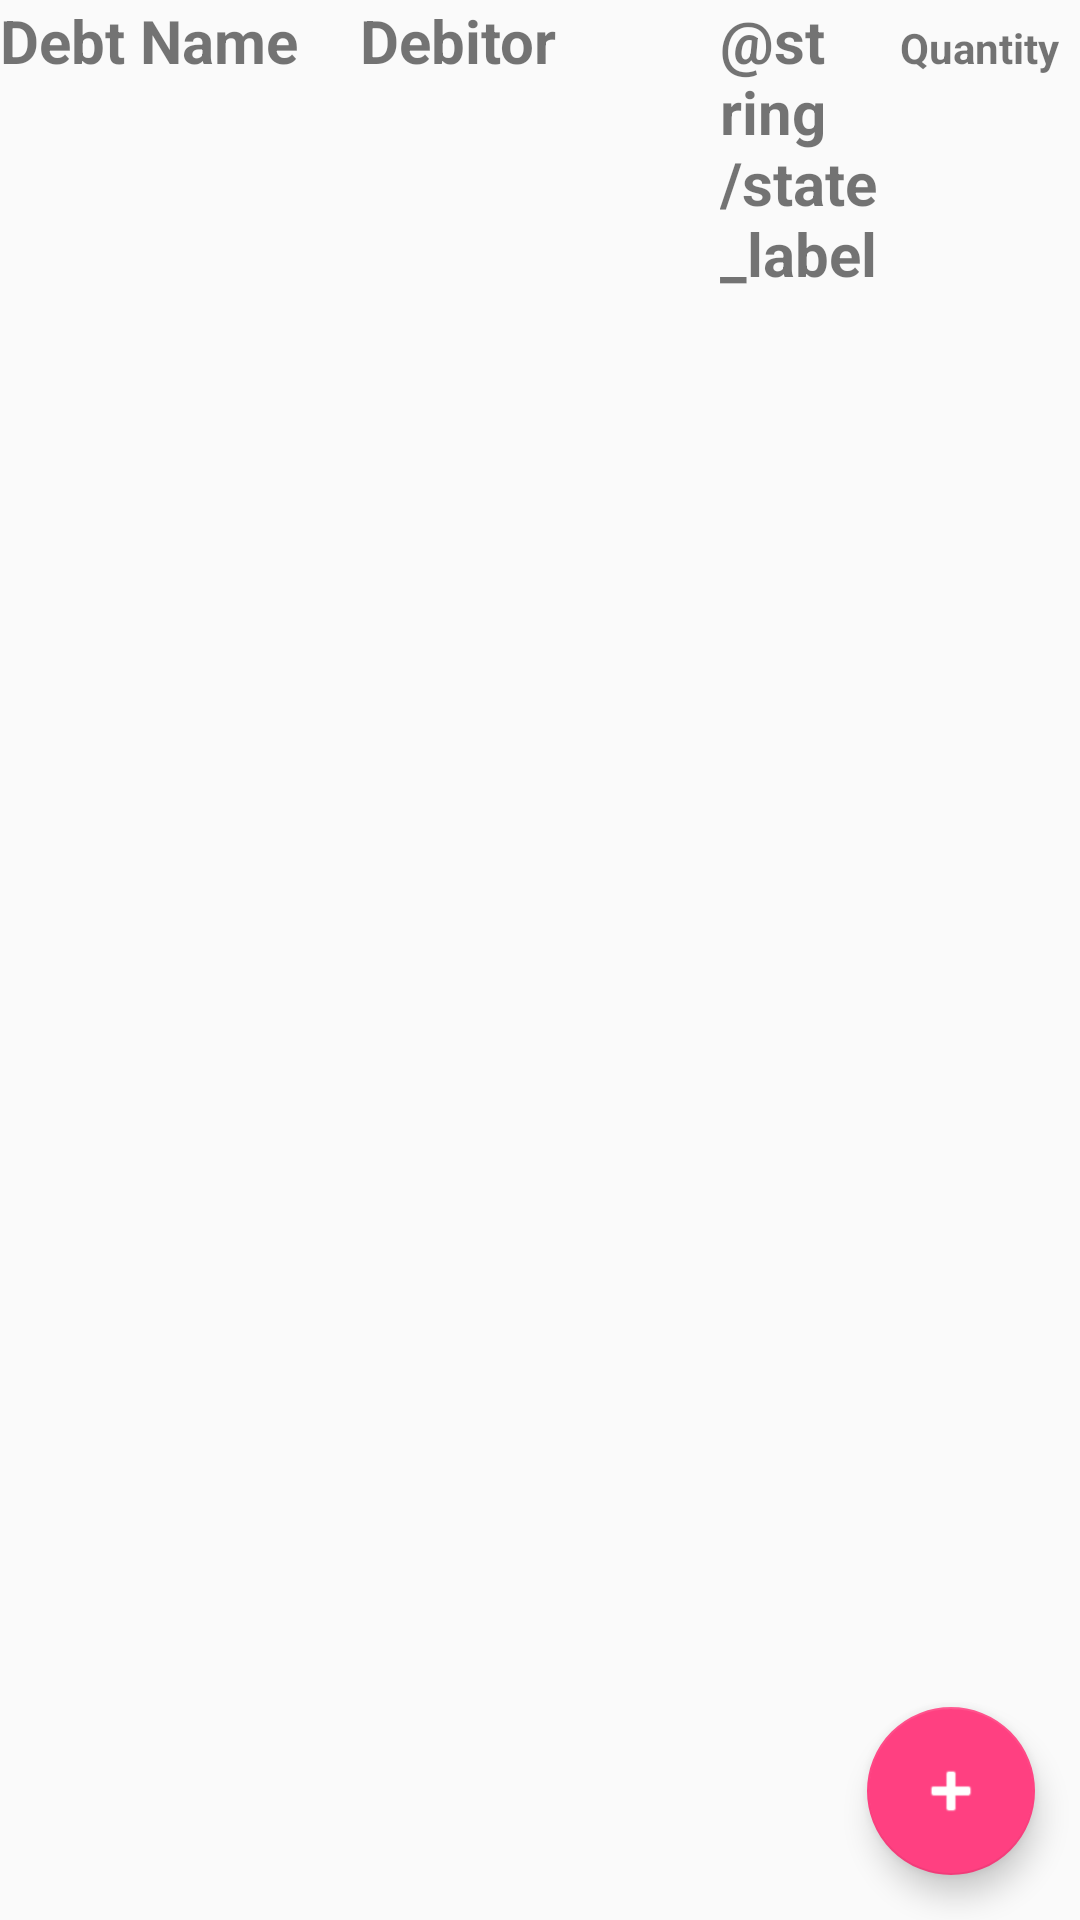

Where icons sit on this 1080px×1920px app screen, as (x1, y1, x2, y2):
add: (867, 1707, 1035, 1875)
